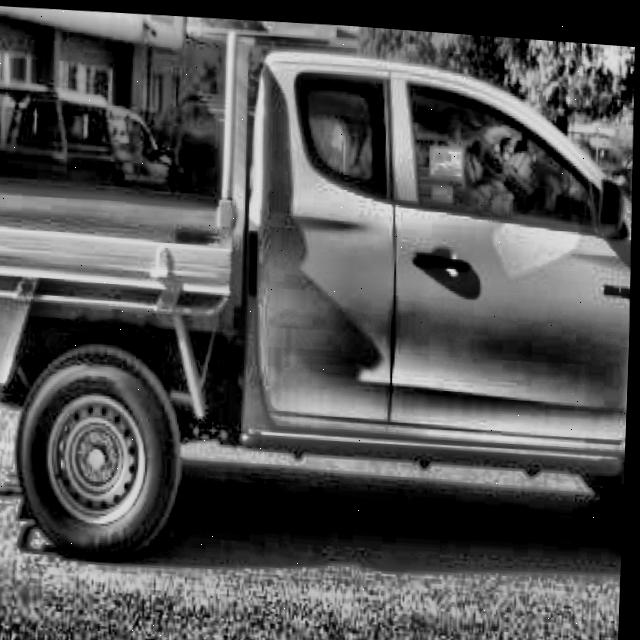light_vehicle: (0, 0, 640, 582)
